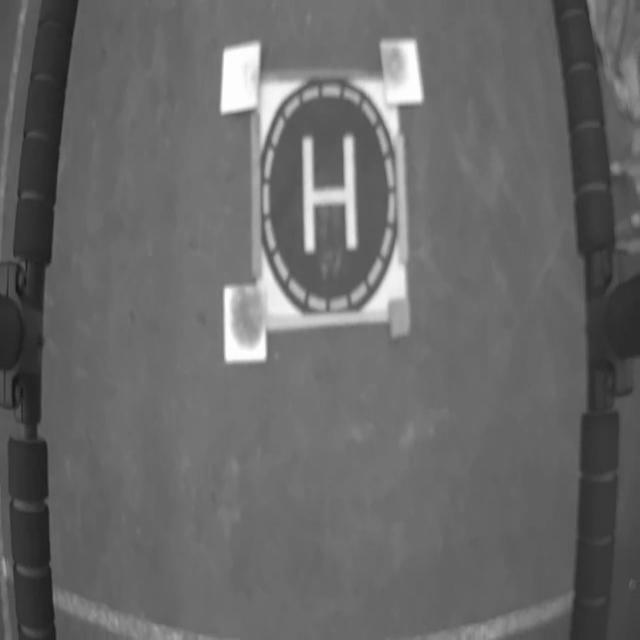Helipad: (303, 133, 359, 253)
